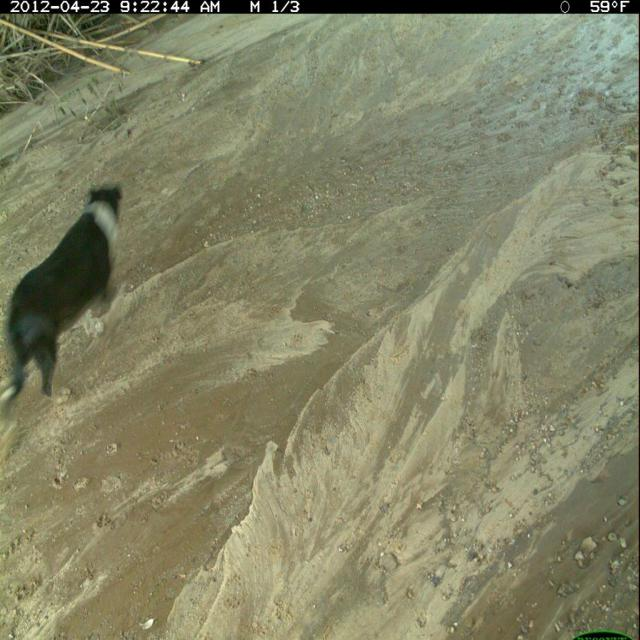dog: (1, 176, 129, 420)
